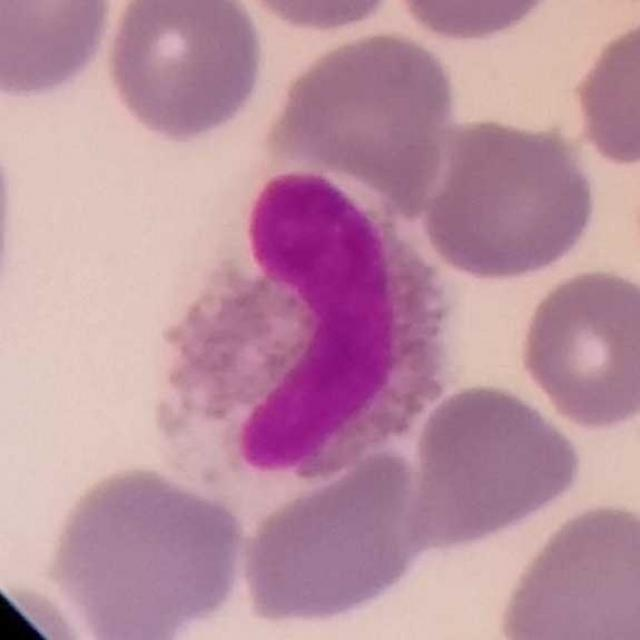eosino: (151, 150, 471, 477)
